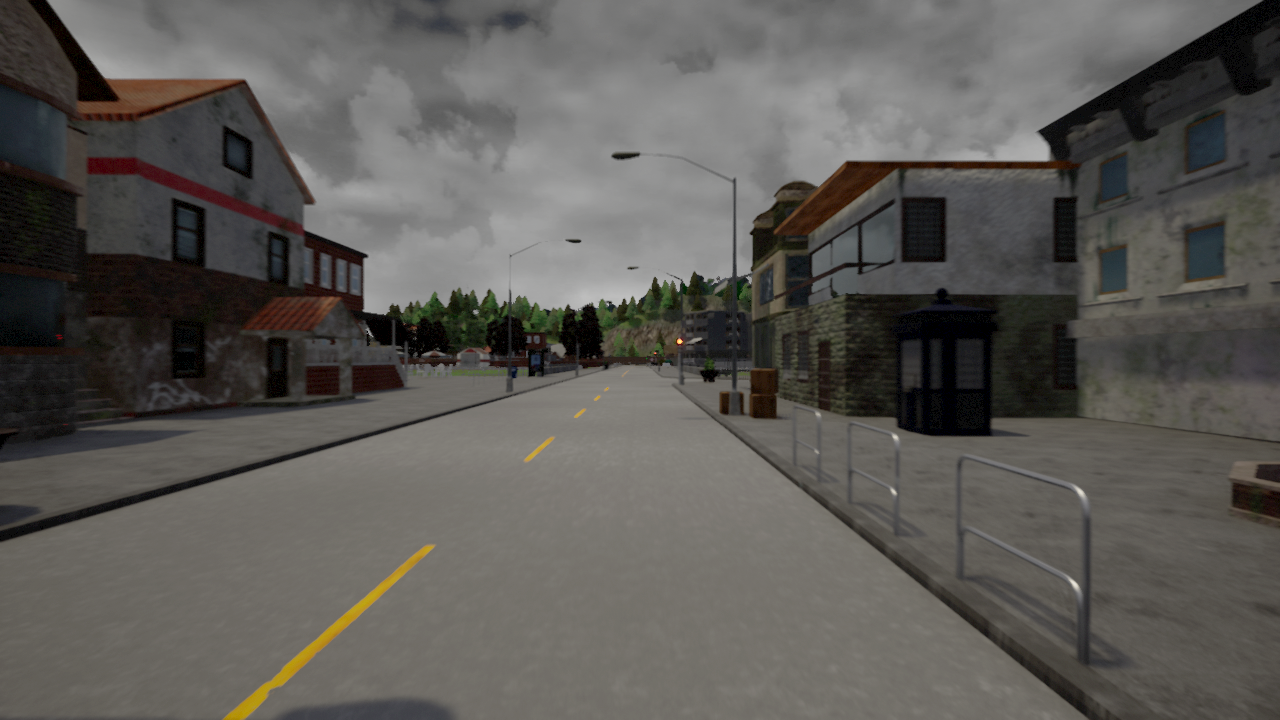red: (676, 337, 684, 354)
